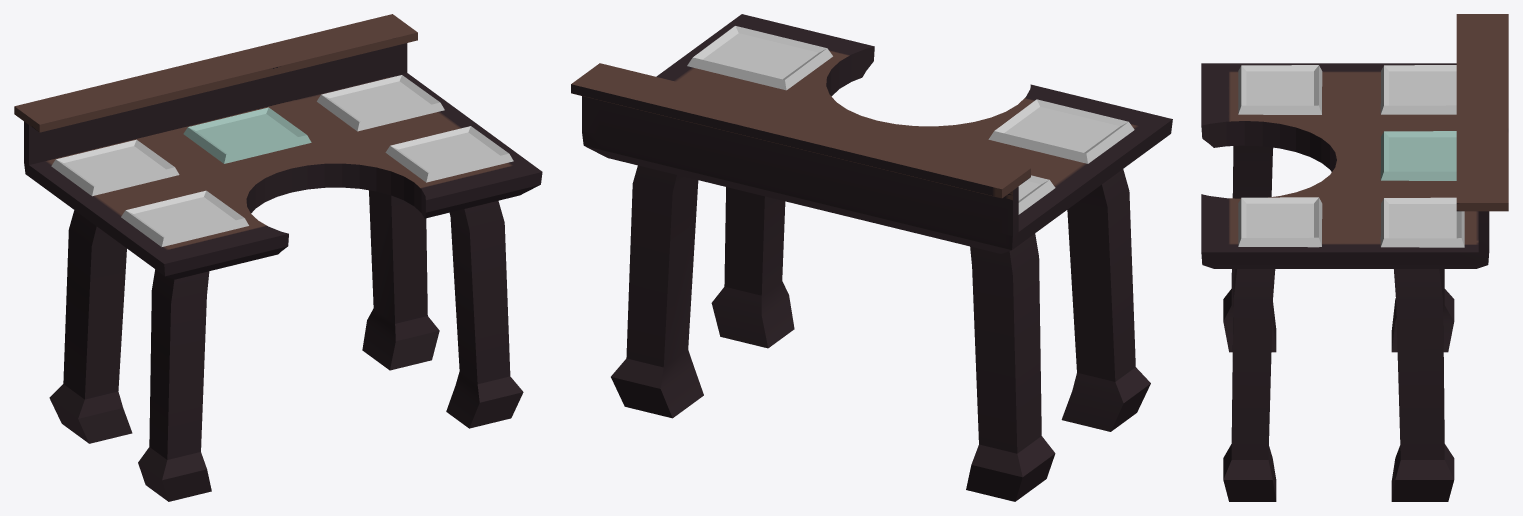
Rendered from Ingredients_Station.fbx.
3 views of the same model, side by side, from view 1: azimuth 30°, elevation 25°; view 2: azimuth 150°, elevation 25°; view 3: azimuth 270°, elevation 25° (orthographic). The views are drawn at different scales.
Visible parts, largest first — view 1: IngredientsStation; view 2: IngredientsStation; view 3: IngredientsStation.
Boxes of the visible parts, x1,y1,x2,y2 form: IngredientsStation: [14, 14, 542, 501]; IngredientsStation: [571, 14, 1172, 501]; IngredientsStation: [1201, 14, 1508, 501].
Size of the model in its own units: 11781 by 8936 by 8088.
